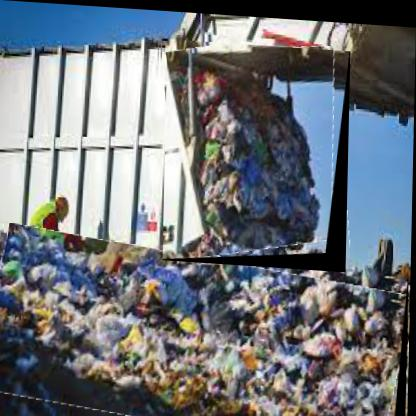Garbage: (1, 235, 412, 416), (165, 38, 352, 269)
